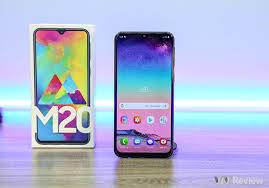samsung: (112, 28, 177, 160)
